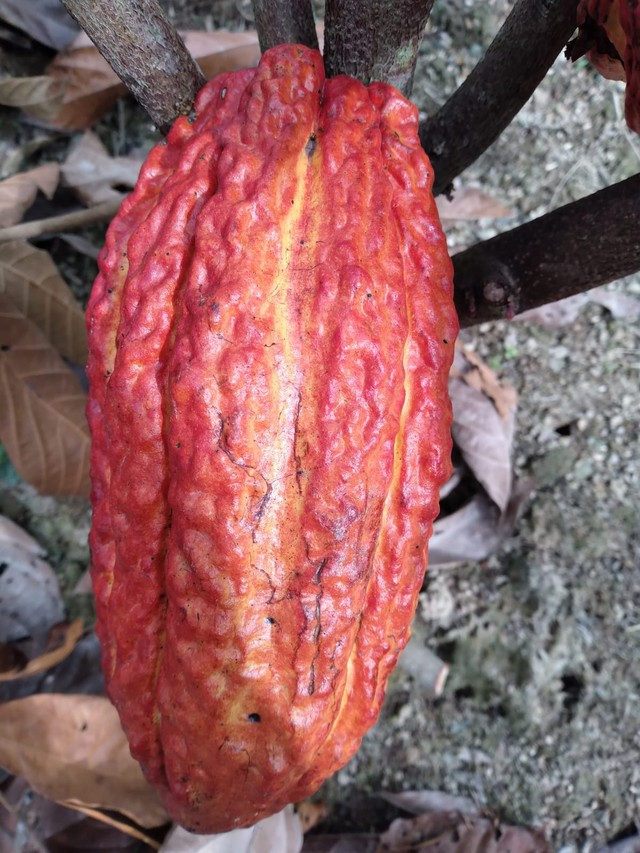Health: (69, 34, 466, 842)
